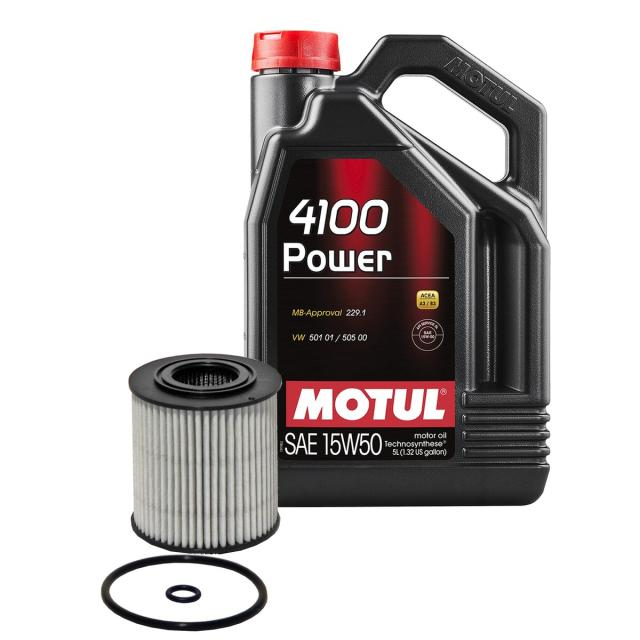motor_oil: (243, 24, 559, 511)
oil_filter: (128, 350, 280, 556)
